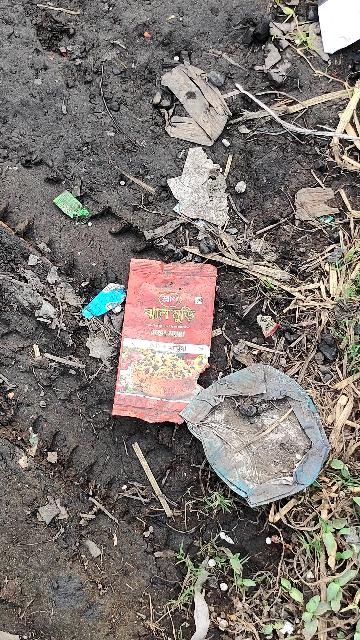packet: (181, 358, 346, 522), (95, 246, 219, 439)
